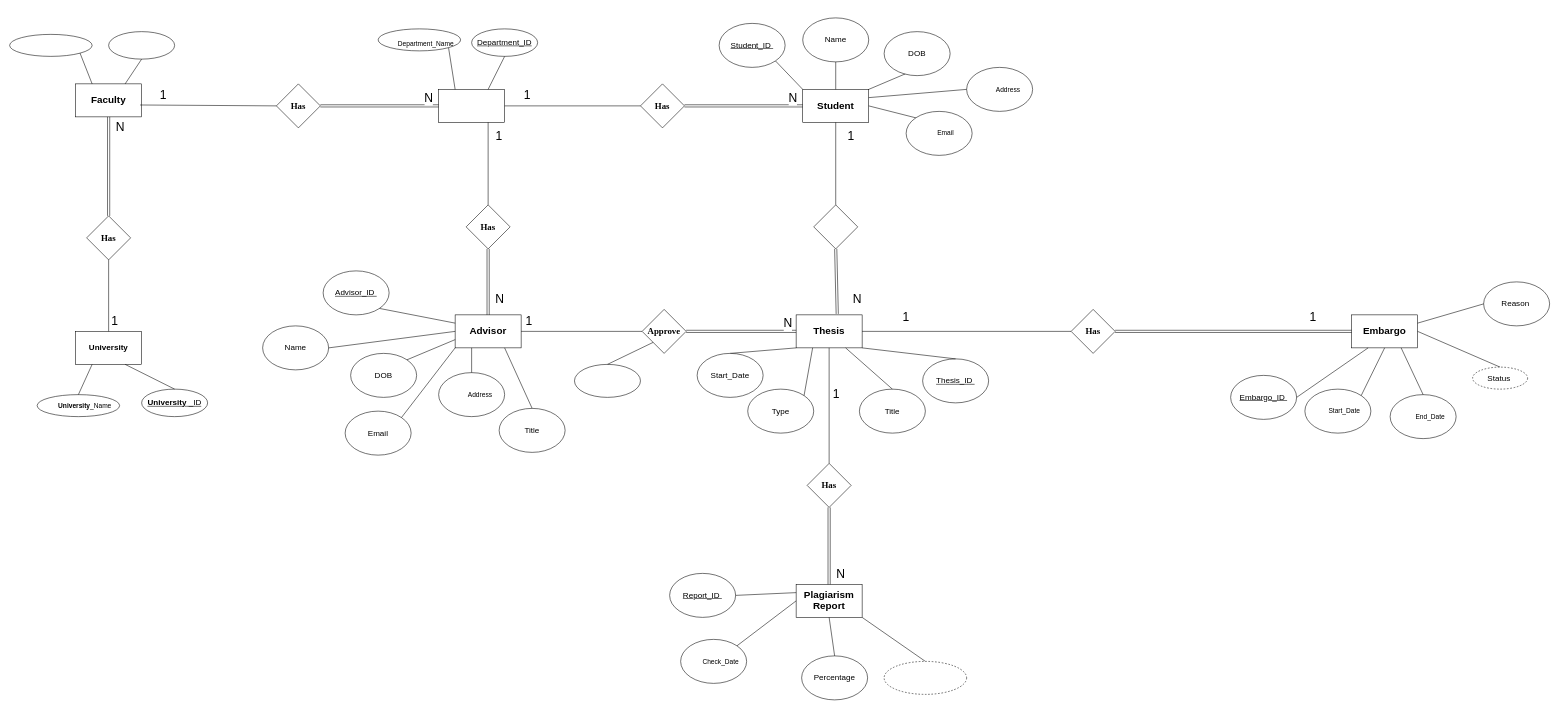
Some shapes in this 1559 by 710 pixel diagram are drawn without their labels. Each missing label, with the box of its shape:
Approval_Status: (574, 364, 640, 397)
Department: (438, 89, 505, 122)
Faculty_ID: (108, 31, 175, 59)
Faculty_Name: (9, 34, 92, 56)
Prepare: (813, 204, 858, 249)
Status: (884, 661, 967, 694)
